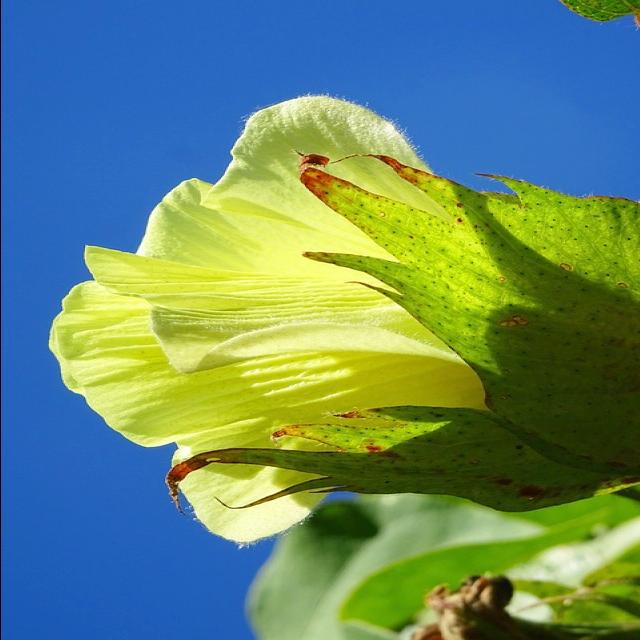Cotton Blossom: (52, 91, 640, 525)
